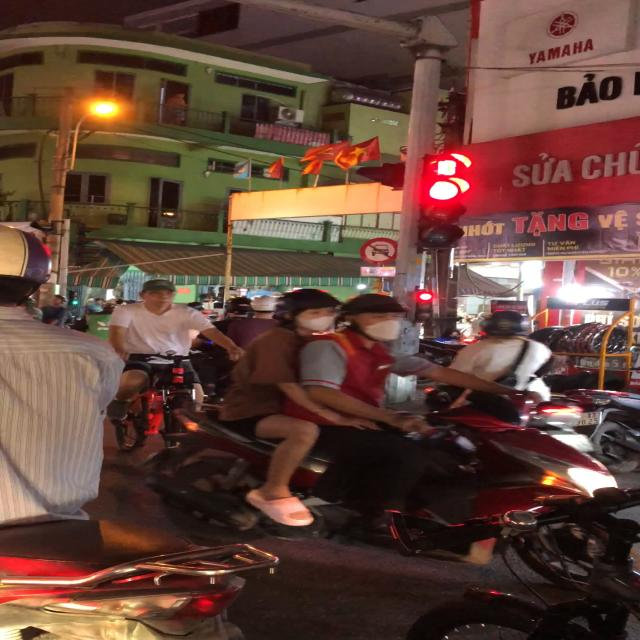Bien bao cam xe oto: (360, 237, 400, 265)
